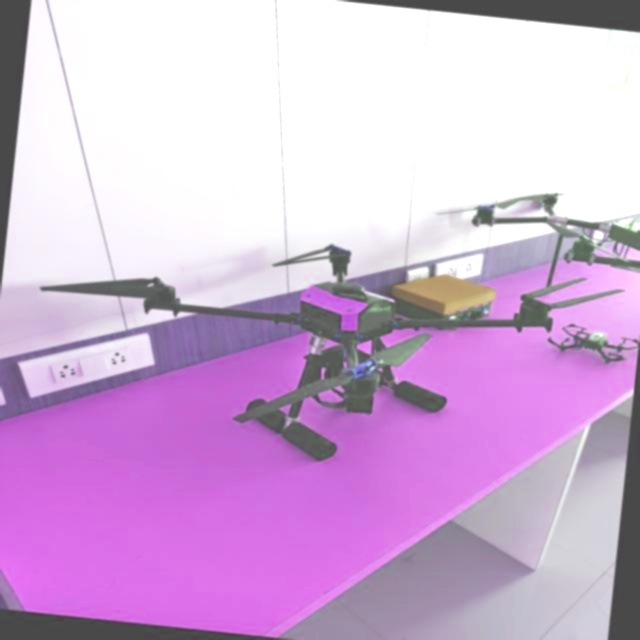quadcopter: (15, 196, 630, 491)
